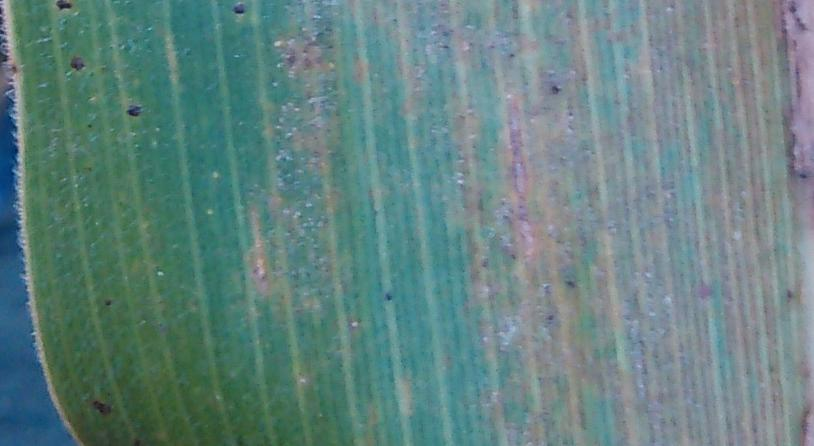tarspot: (788, 1, 810, 35), (89, 398, 114, 417), (228, 1, 251, 16), (70, 54, 88, 73), (560, 272, 579, 290), (126, 101, 145, 118), (781, 284, 797, 304), (52, 1, 75, 12), (548, 79, 562, 97), (381, 287, 395, 304), (101, 294, 115, 309), (544, 309, 557, 324), (797, 168, 810, 182), (82, 118, 95, 131), (506, 47, 517, 61), (131, 436, 146, 446), (8, 62, 20, 74), (234, 433, 245, 446)
